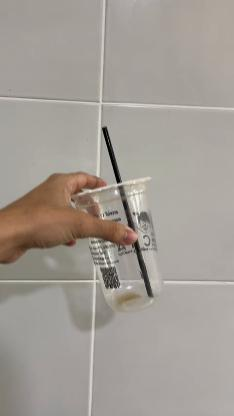Plastic Cup: (71, 175, 169, 308)
